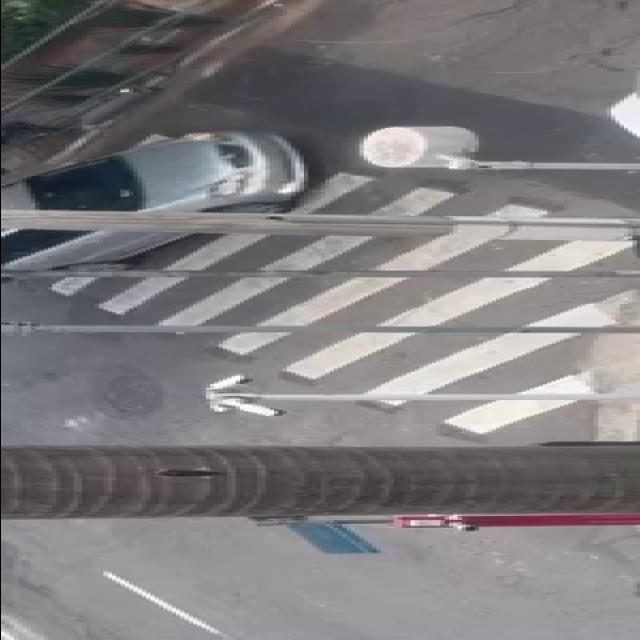car: (0, 129, 317, 286)
